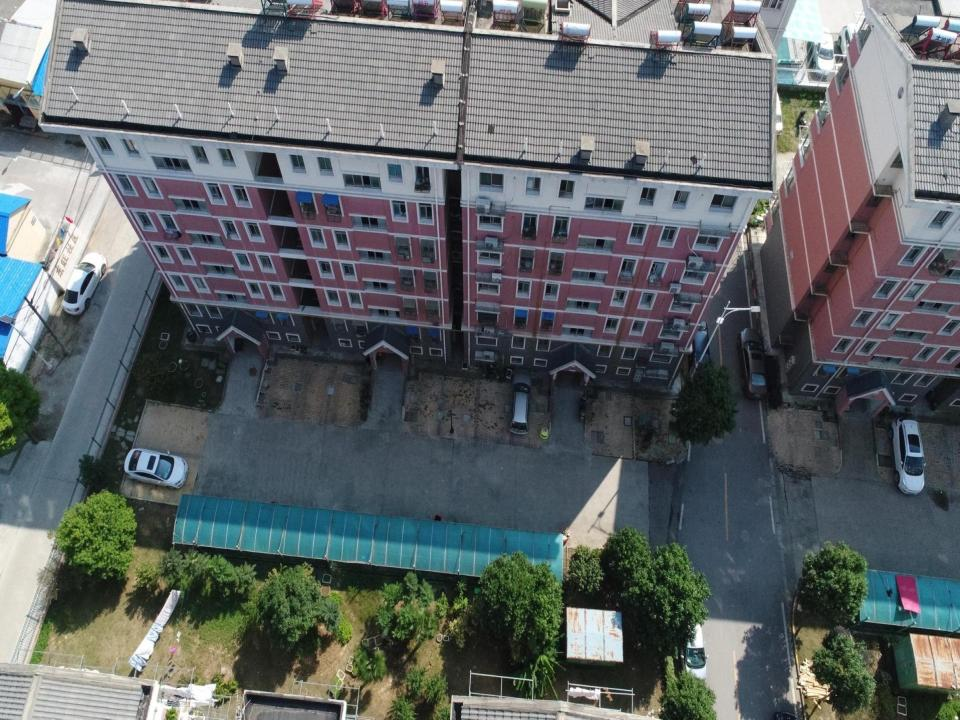car: (888, 416, 926, 495), (61, 252, 106, 315), (124, 448, 188, 490), (737, 328, 768, 401), (677, 616, 709, 684), (837, 24, 870, 76), (810, 26, 835, 78), (689, 321, 710, 378), (764, 88, 783, 136)
van: (509, 372, 532, 434)
